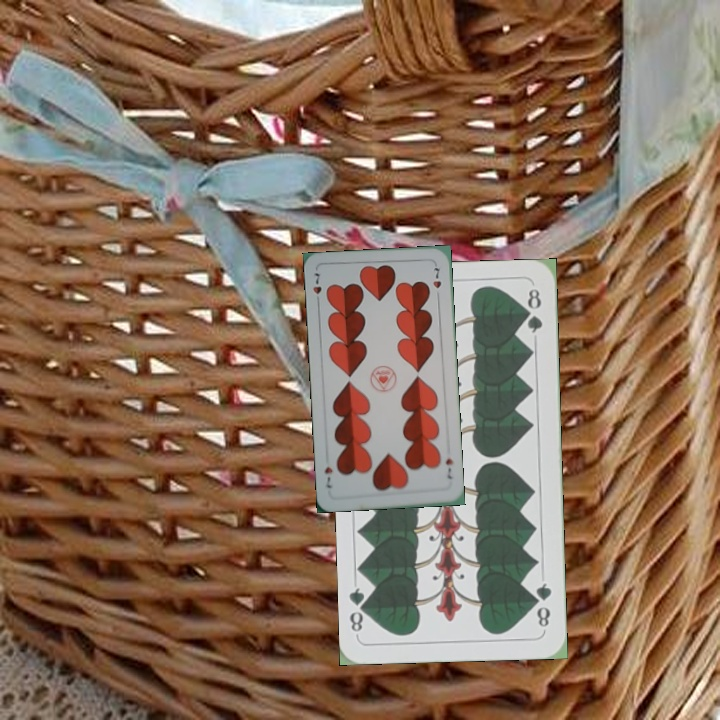G8: (530, 579, 554, 630)
H7: (309, 269, 324, 308), (441, 454, 455, 482)
